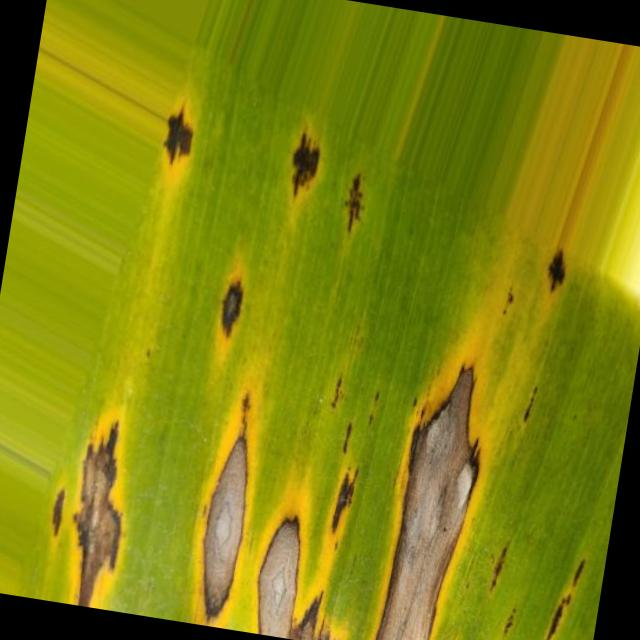Banana_Yellow_Sigatoka: (339, 328, 545, 640), (174, 406, 412, 640), (16, 398, 202, 620), (165, 240, 307, 392), (131, 75, 233, 193), (267, 107, 339, 221), (538, 223, 610, 318), (334, 155, 394, 246)
